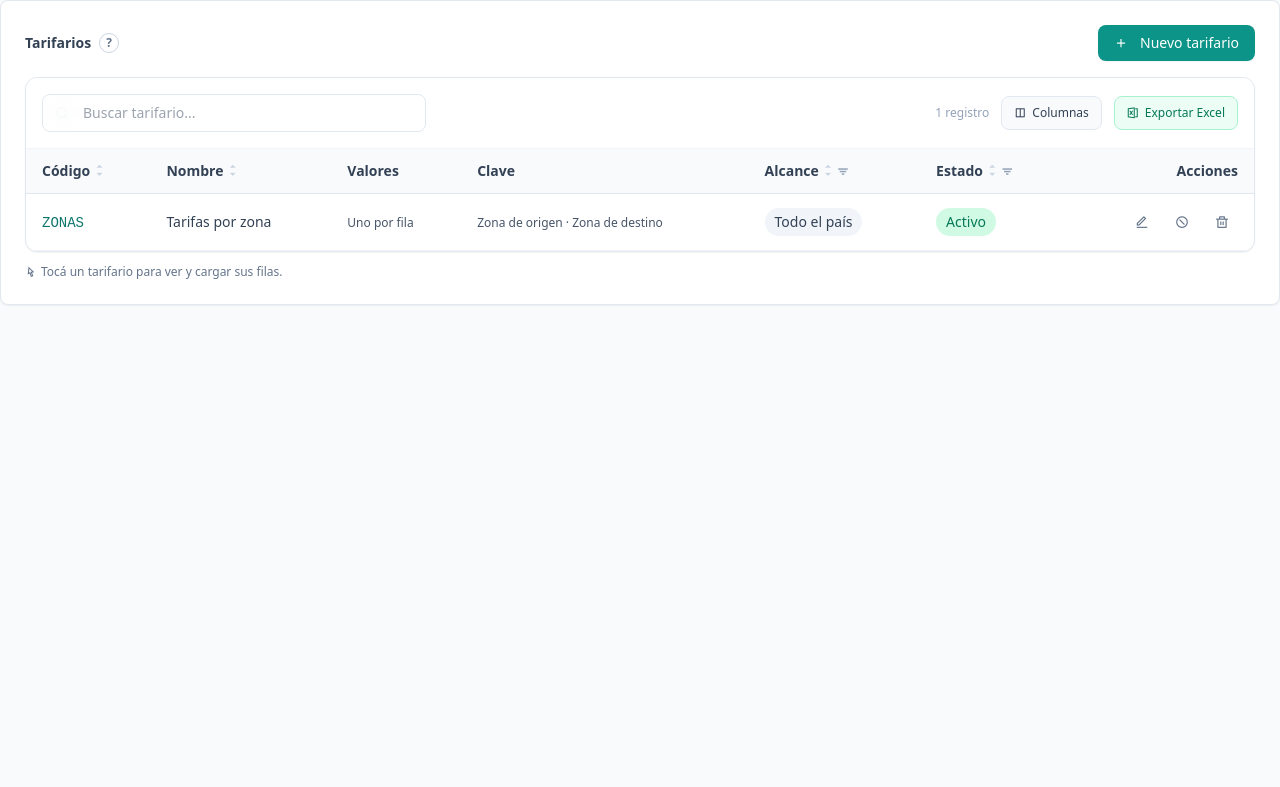
Scenario: TarifariosTab (caracterización) › al elegir un tarifario muestra sus filas y el formulario; se puede cerrar
Click the text "ZONAS". click: (63, 222)
box: top-left (42, 214), bottom-right (84, 230)
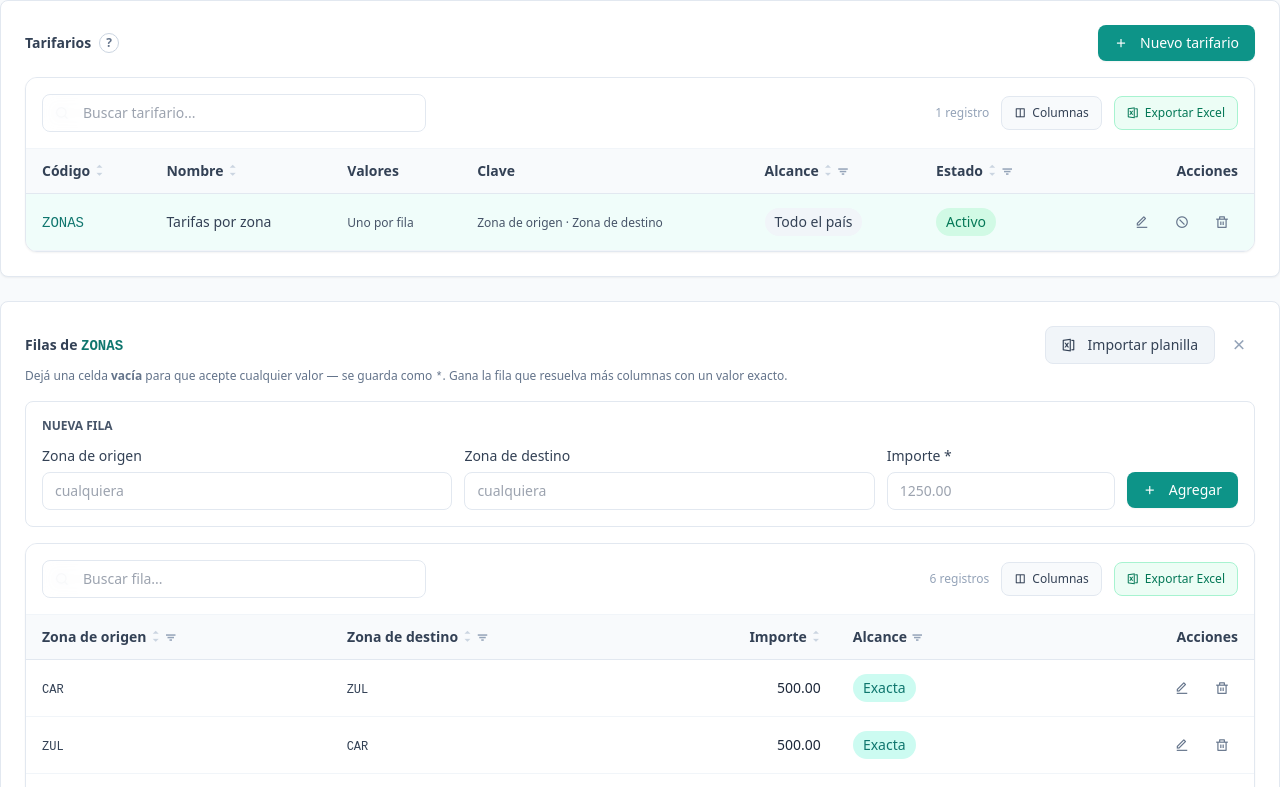
expect the heading "Filas de ZONAS" is shown: met, box top-left (25, 334), bottom-right (123, 356)
expect the heading "Nueva fila" is shown: met, box top-left (42, 417), bottom-right (113, 434)
Click the button titled "Cerrar". click: (1239, 345)
box: top-left (1223, 329), bottom-right (1255, 361)
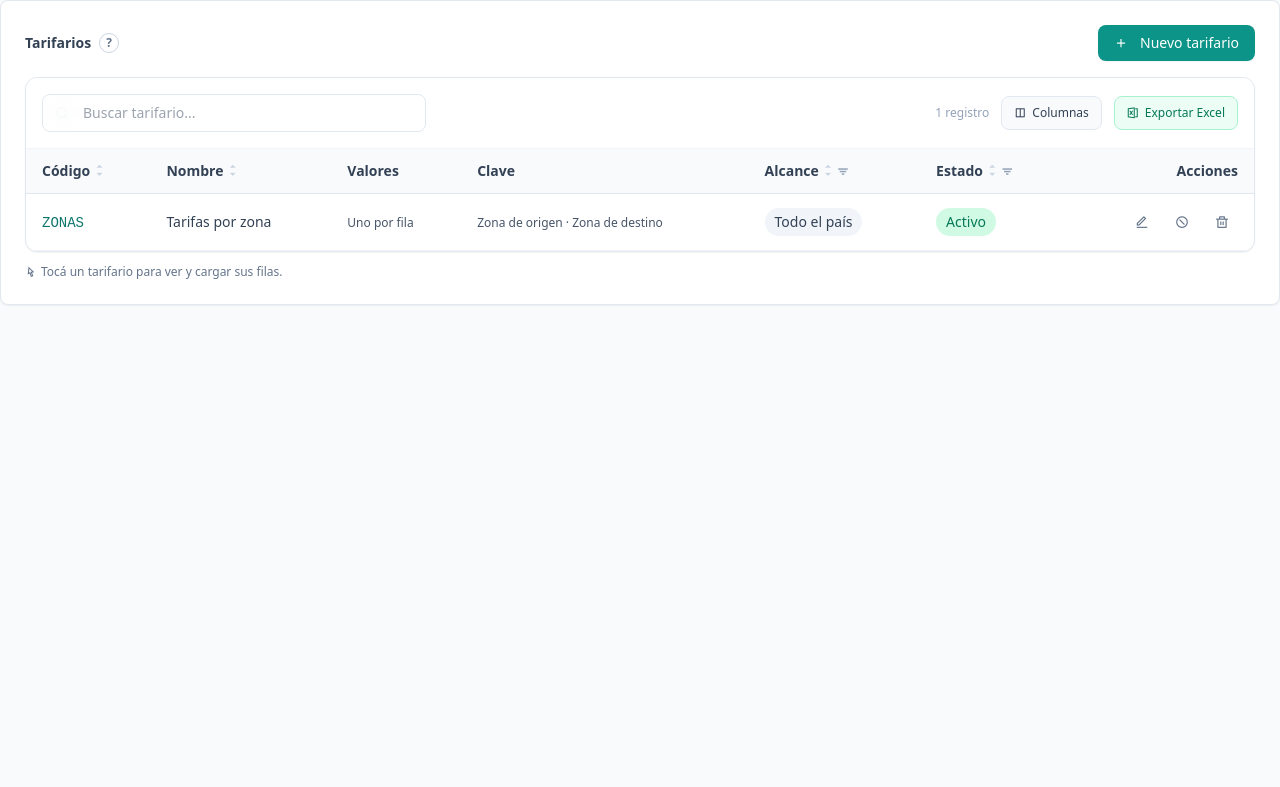
expect the heading "Filas de" is gone: met
